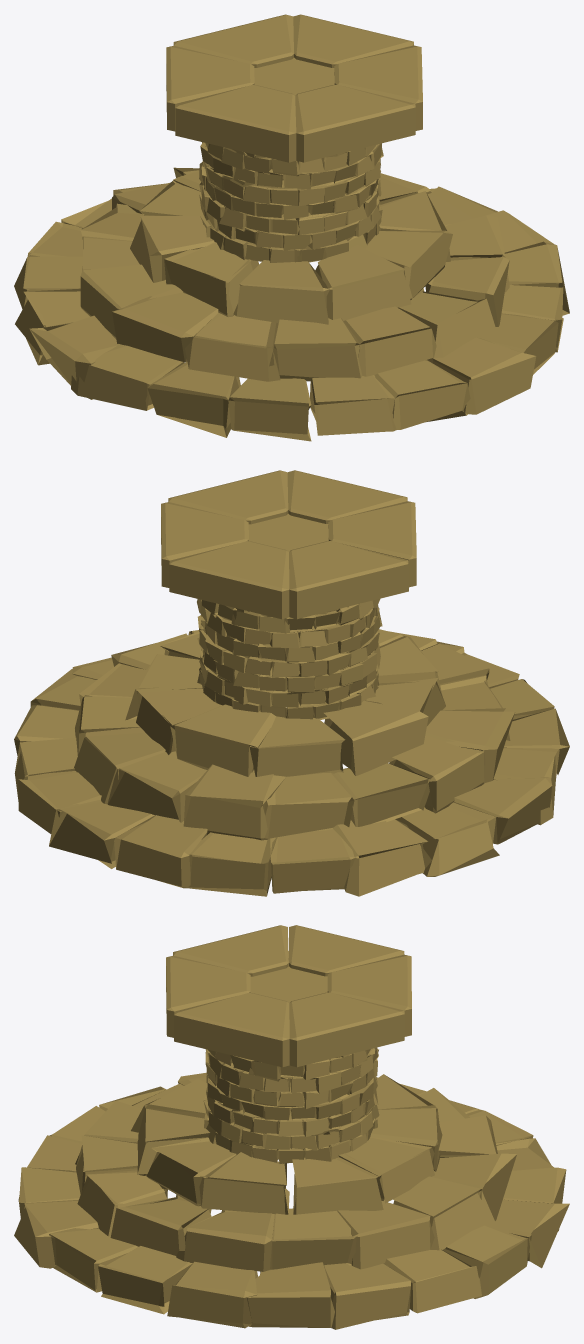
Rendered from egypt_altar.fbx.
3 renders of one model, top to bottom at view 1: azimuth 30°, elevation 25°; view 2: azimuth 150°, elevation 25°; view 3: azimuth 270°, elevation 25°, orthographic. The views are drawn at different scales.
Visible parts, largest first — view 1: Cube.003, Cube.002, Cube.001, Cube.004, Cube, Cube.005; view 2: Cube.003, Cube.002, Cube.001, Cube.004, Cube, Cube.005; view 3: Cube.003, Cube.002, Cube.001, Cube.004, Cube, Cube.005.
Part boxes in pixels (x1,y1,x2,y2): Cube.003: (14, 183, 569, 441); Cube.002: (80, 167, 509, 381); Cube.001: (166, 14, 422, 162); Cube.004: (130, 171, 452, 324); Cube: (199, 142, 383, 262); Cube.005: (254, 57, 334, 95); Cube.003: (14, 641, 569, 896); Cube.002: (74, 630, 514, 840); Cube.001: (161, 470, 416, 619); Cube.004: (125, 629, 445, 776); Cube: (197, 599, 382, 719); Cube.005: (248, 513, 328, 551); Cube.003: (14, 1086, 569, 1329); Cube.002: (75, 1072, 516, 1271); Cube.001: (166, 925, 411, 1067); Cube.004: (131, 1074, 442, 1214); Cube: (203, 951, 379, 1163); Cube.005: (250, 960, 327, 1002).
Bounding box in the file's own units: 1160 × 580 × 1208.
